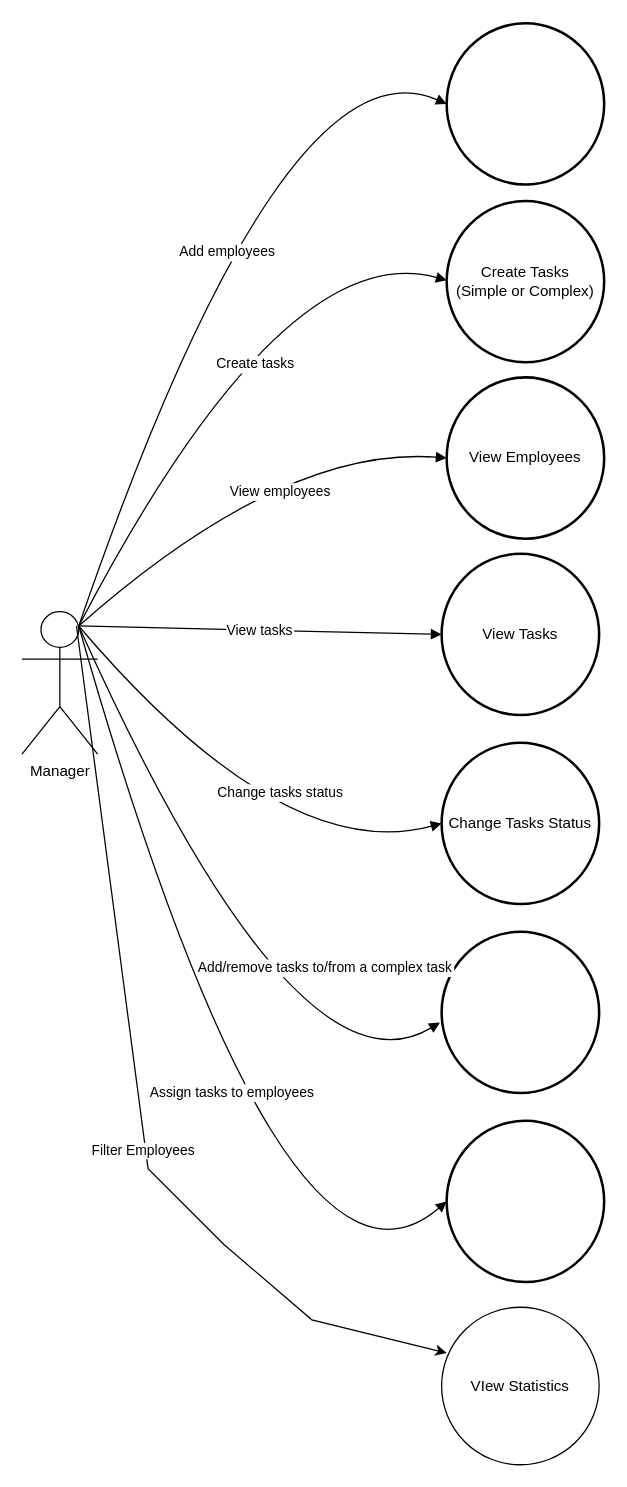
Some shapes in this 627 by 1487 pixel diagram are drawn without their labels. The centre of each missing label's shape, as x and y in pixels:
"Add Employee" goes at point (525, 103).
"Add/Remove Tasks" goes at point (520, 1012).
"Assign/Remove Tasks to/from employees" goes at point (525, 1201).
